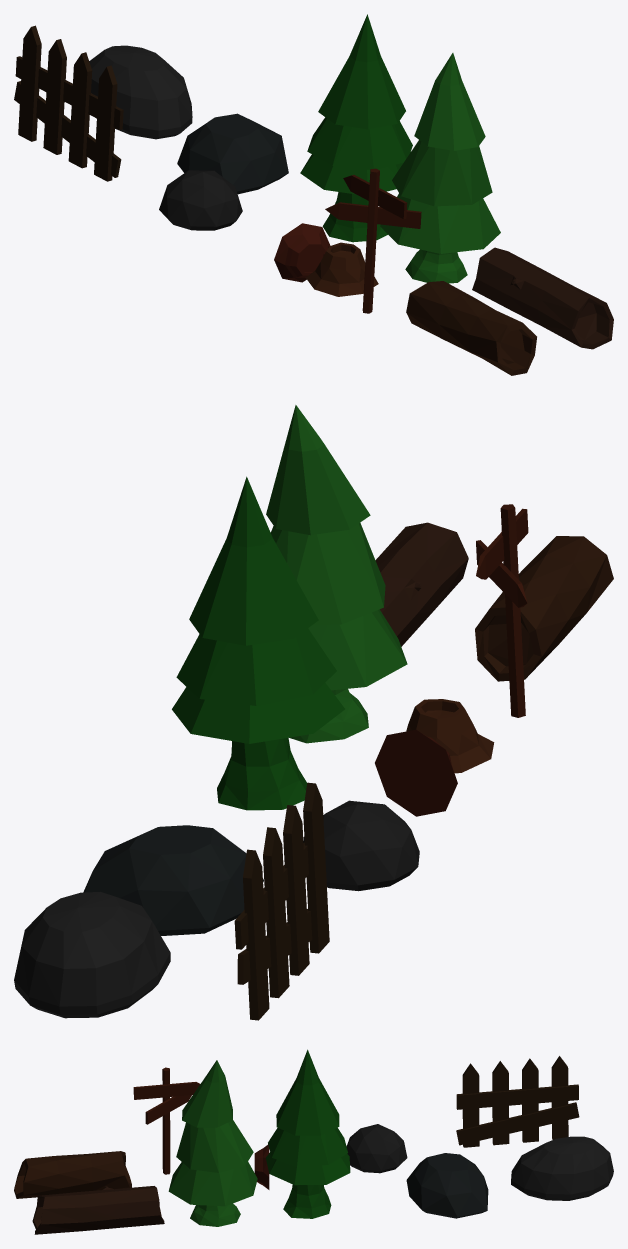
The model's file is forrest.obj.
3 views of the same model, one above another, from view 1: azimuth 30°, elevation 25°; view 2: azimuth 150°, elevation 25°; view 3: azimuth 270°, elevation 25° (orthographic). The views are drawn at different scales.
Visible parts, largest first — view 1: TREE_2_Cylinder.002, TREE_1_Cylinder.001, FENCE_Cube, LOG_3_Cylinder.004, LOG_4_Cylinder.005, STONE_1_Sphere.001, STONE_2_Sphere.002, BUSH_Icosphere.001, SIGN_Cylinder.006, LOG_2_Cylinder.003, LOG_1_Cylinder; view 2: TREE_1_Cylinder.001, TREE_2_Cylinder.002, STONE_1_Sphere.001, FENCE_Cube, STONE_2_Sphere.002, LOG_4_Cylinder.005, BUSH_Icosphere.001, LOG_3_Cylinder.004, LOG_1_Cylinder, SIGN_Cylinder.006, LOG_2_Cylinder.003; view 3: TREE_2_Cylinder.002, TREE_1_Cylinder.001, FENCE_Cube, STONE_1_Sphere.001, LOG_3_Cylinder.004, LOG_4_Cylinder.005, STONE_2_Sphere.002, BUSH_Icosphere.001, SIGN_Cylinder.006, LOG_1_Cylinder.
Boxes of the visible parts, x1=… form: TREE_2_Cylinder.002: x1=380, y1=53, x2=500, y2=283; TREE_1_Cylinder.001: x1=300, y1=14, x2=412, y2=242; FENCE_Cube: x1=14, y1=25, x2=123, y2=181; LOG_3_Cylinder.004: x1=472, y1=247, x2=613, y2=349; LOG_4_Cylinder.005: x1=406, y1=281, x2=536, y2=375; STONE_1_Sphere.001: x1=89, y1=45, x2=192, y2=139; STONE_2_Sphere.002: x1=177, y1=113, x2=288, y2=194; BUSH_Icosphere.001: x1=159, y1=170, x2=242, y2=230; SIGN_Cylinder.006: x1=325, y1=168, x2=421, y2=313; LOG_2_Cylinder.003: x1=306, y1=242, x2=378, y2=296; LOG_1_Cylinder: x1=274, y1=223, x2=330, y2=282; TREE_1_Cylinder.001: x1=172, y1=476, x2=344, y2=810; TREE_2_Cylinder.002: x1=266, y1=405, x2=407, y2=743; STONE_1_Sphere.001: x1=14, y1=892, x2=170, y2=1018; FENCE_Cube: x1=234, y1=782, x2=329, y2=1020; STONE_2_Sphere.002: x1=83, y1=825, x2=263, y2=935; LOG_4_Cylinder.005: x1=475, y1=536, x2=613, y2=681; BUSH_Icosphere.001: x1=303, y1=800, x2=419, y2=891; LOG_3_Cylinder.004: x1=375, y1=522, x2=468, y2=646; LOG_1_Cylinder: x1=375, y1=729, x2=457, y2=816; SIGN_Cylinder.006: x1=476, y1=504, x2=528, y2=717; LOG_2_Cylinder.003: x1=406, y1=699, x2=494, y2=773; TREE_2_Cylinder.002: x1=168, y1=1060, x2=257, y2=1226; TREE_1_Cylinder.001: x1=266, y1=1049, x2=350, y2=1218; FENCE_Cube: x1=456, y1=1056, x2=579, y2=1147; STONE_1_Sphere.001: x1=511, y1=1136, x2=613, y2=1200; LOG_3_Cylinder.004: x1=32, y1=1186, x2=164, y2=1234; LOG_4_Cylinder.005: x1=14, y1=1151, x2=131, y2=1198; STONE_2_Sphere.002: x1=406, y1=1153, x2=488, y2=1218; BUSH_Icosphere.001: x1=346, y1=1124, x2=407, y2=1173; SIGN_Cylinder.006: x1=133, y1=1067, x2=200, y2=1174; LOG_1_Cylinder: x1=254, y1=1144, x2=269, y2=1189.
Bounding box in the file's own units: 10.99 × 9.56 × 29.9.
